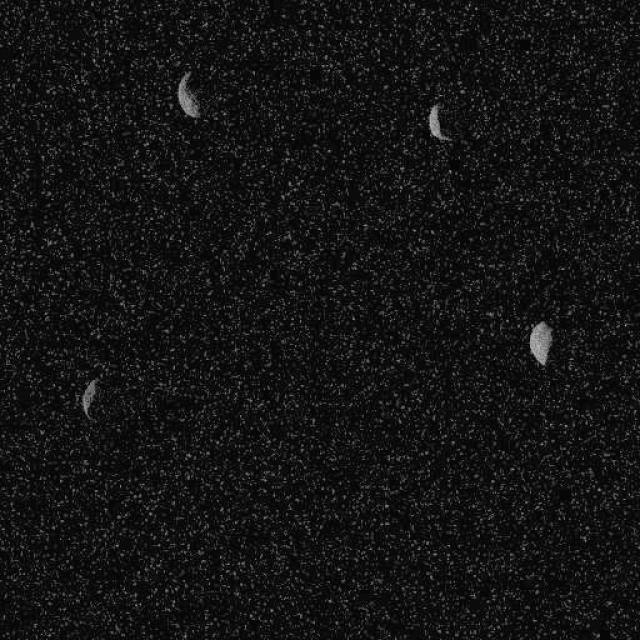D2: (175, 68, 201, 119), (528, 319, 552, 365), (426, 102, 452, 142), (80, 375, 100, 419)
